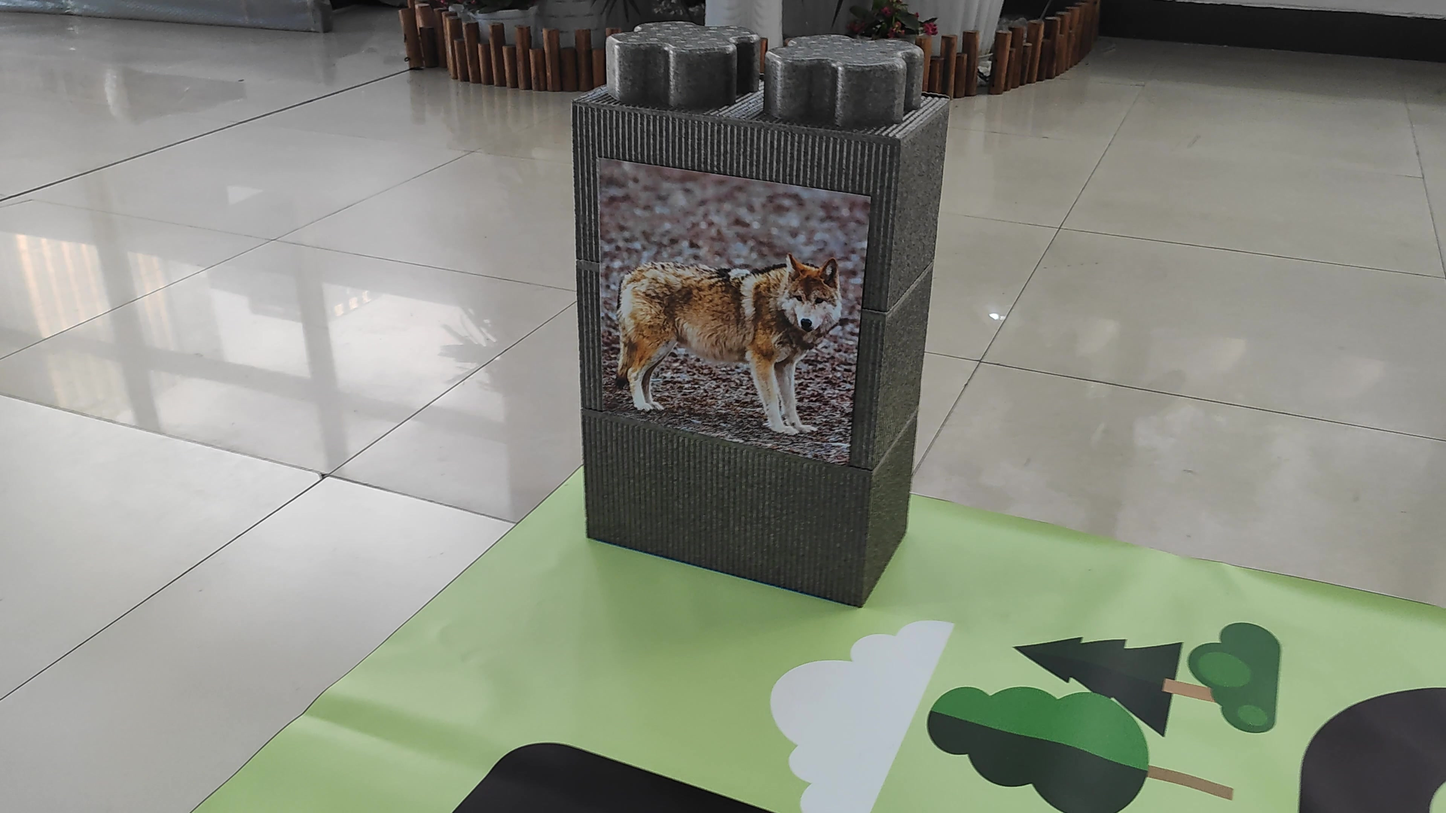wolf: (593, 201, 846, 442)
